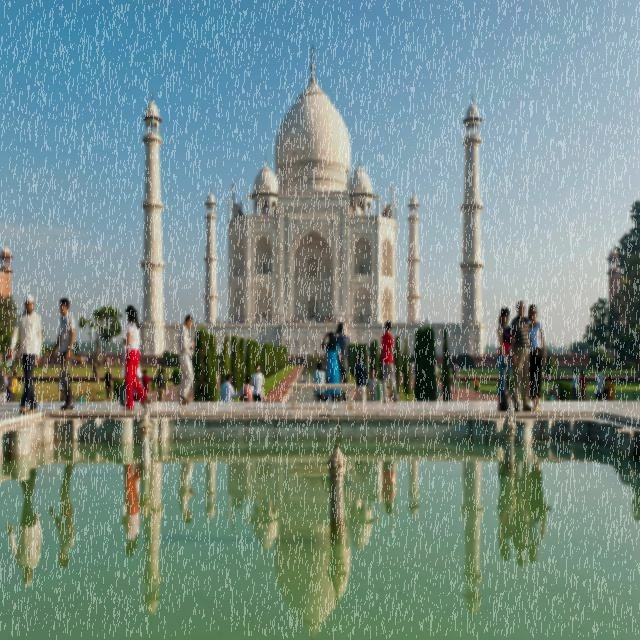pessoa: (4, 453, 202, 596), (497, 454, 558, 576), (5, 292, 44, 418), (122, 300, 153, 412), (49, 297, 76, 411), (508, 300, 534, 412), (121, 306, 149, 408), (526, 304, 548, 412), (496, 306, 516, 413), (177, 313, 196, 405), (380, 320, 400, 404), (320, 330, 342, 402), (380, 452, 398, 522), (208, 316, 344, 324), (334, 322, 351, 384), (351, 351, 370, 402), (220, 372, 239, 402), (250, 362, 264, 402), (314, 361, 326, 403), (152, 367, 166, 402), (238, 374, 254, 402), (103, 366, 114, 403), (380, 373, 393, 402), (71, 350, 93, 367), (8, 371, 19, 403), (595, 364, 604, 402), (368, 368, 378, 401), (451, 359, 460, 394), (570, 368, 579, 401), (578, 368, 586, 402), (605, 374, 615, 401), (142, 368, 150, 401), (58, 371, 66, 402), (5, 370, 12, 402), (132, 374, 140, 402), (560, 344, 573, 358), (163, 362, 169, 392), (410, 358, 416, 382), (434, 360, 439, 388), (156, 363, 164, 379), (602, 382, 608, 401), (101, 346, 112, 356), (474, 376, 478, 395), (292, 354, 296, 366), (140, 364, 144, 376), (367, 353, 371, 365), (482, 347, 486, 357), (493, 348, 497, 358), (55, 346, 59, 356), (378, 346, 381, 358), (408, 318, 415, 323), (379, 368, 382, 379), (170, 346, 174, 354), (354, 316, 357, 326), (318, 346, 321, 356), (315, 348, 318, 356), (420, 318, 423, 325), (426, 316, 428, 324), (419, 316, 421, 324), (415, 318, 417, 326), (353, 316, 355, 323), (286, 317, 288, 323), (416, 320, 418, 324)
